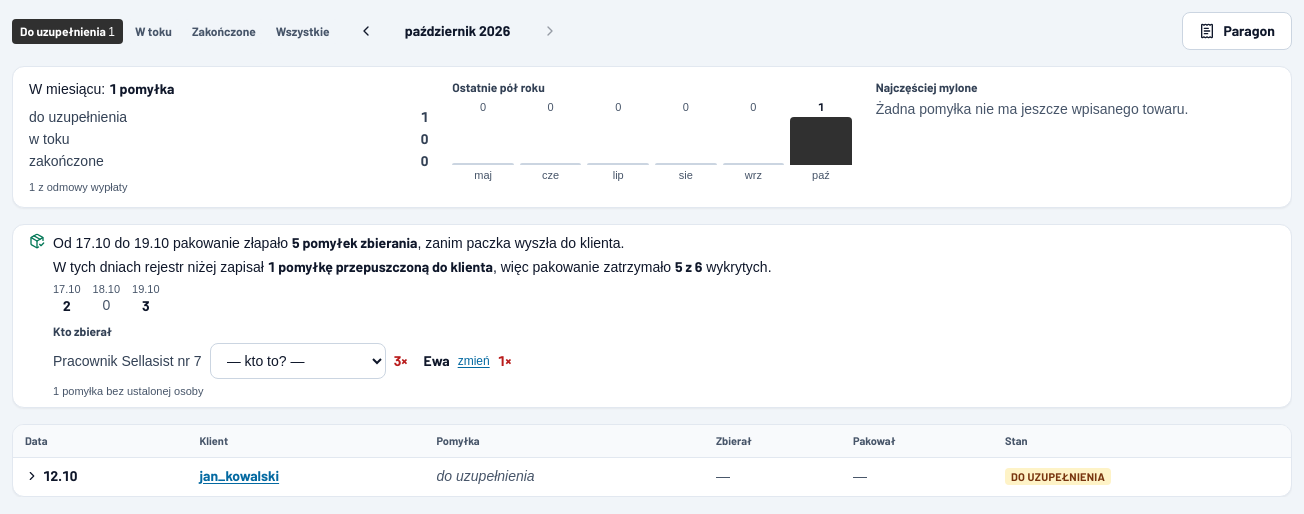
Test: pomyłki złapane przy pakowaniu › kto zbierał (admin): imię po przypisaniu, numer Sellasist z wyborem osoby, reszta bez osoby
Expected: the element named "Kto zbierał złapane" shows "Ewa", [424, 352, 450, 368]
Expected: the element named "Kto zbierał złapane" shows "1 pomyłka bez ustalonej osoby", [53, 324, 512, 396]
Select "Marek" in the dropdown named "Pracownik Sellasist nr 7 to" at (298, 360), box [210, 342, 386, 378]
Click the button "zmień" at (474, 360), box [458, 352, 490, 368]
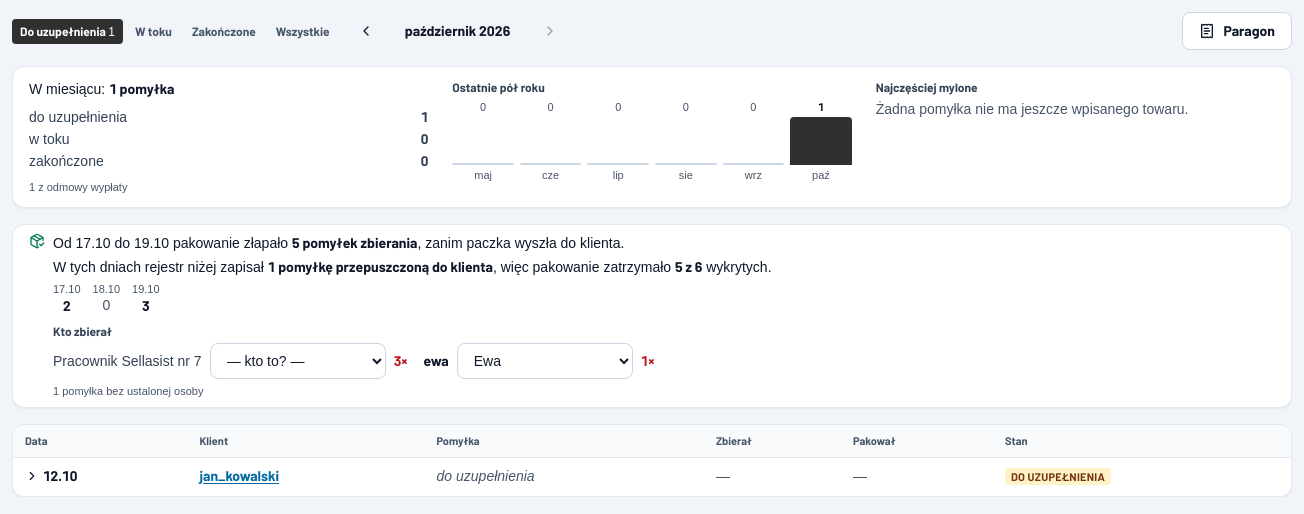
Now the dropdown named "Pracownik Sellasist nr 8 to" shows "Ewa", box [457, 342, 633, 378]
